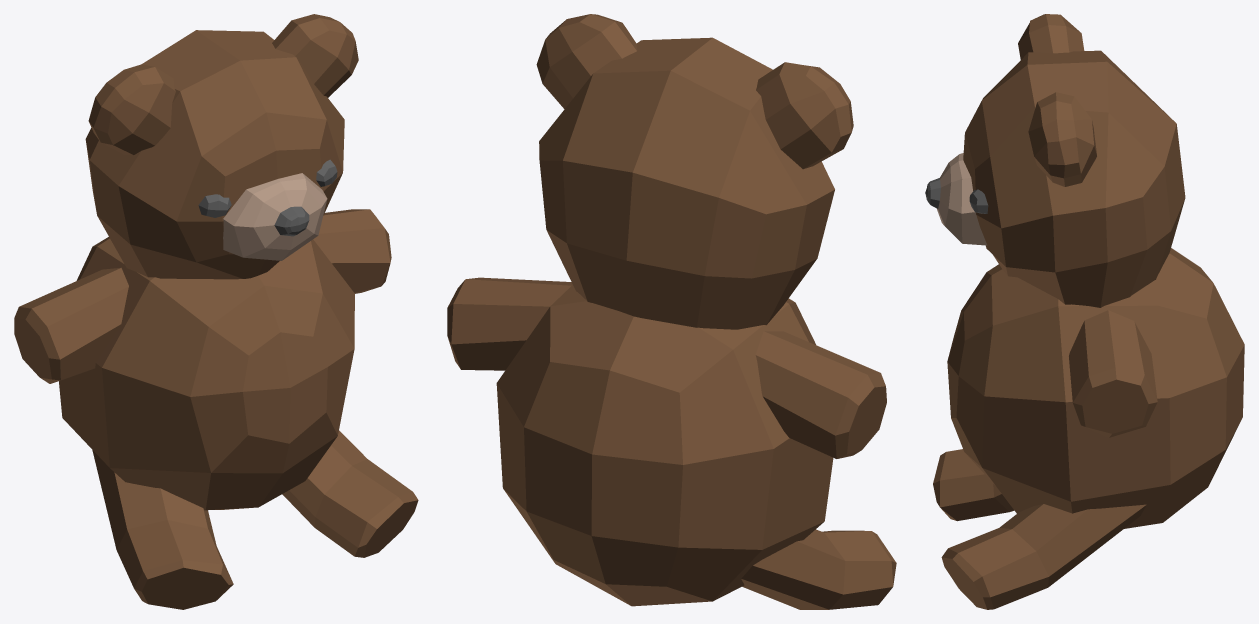
The model's file is Toy_Bear_2.fbx.
3 renders of one model, left to right at view 1: azimuth 30°, elevation 25°; view 2: azimuth 150°, elevation 25°; view 3: azimuth 270°, elevation 25°, orthographic. The views are drawn at different scales.
Parts seen in each view (by area): view 1: Toy_Bear_2; view 2: Toy_Bear_2; view 3: Toy_Bear_2.
Part boxes in pixels (x1=…): Toy_Bear_2: x1=14, y1=14, x2=418, y2=609; Toy_Bear_2: x1=447, y1=14, x2=896, y2=609; Toy_Bear_2: x1=925, y1=14, x2=1244, y2=609.
Bounding box in the file's own units: 19.55 × 15.34 × 26.57.
